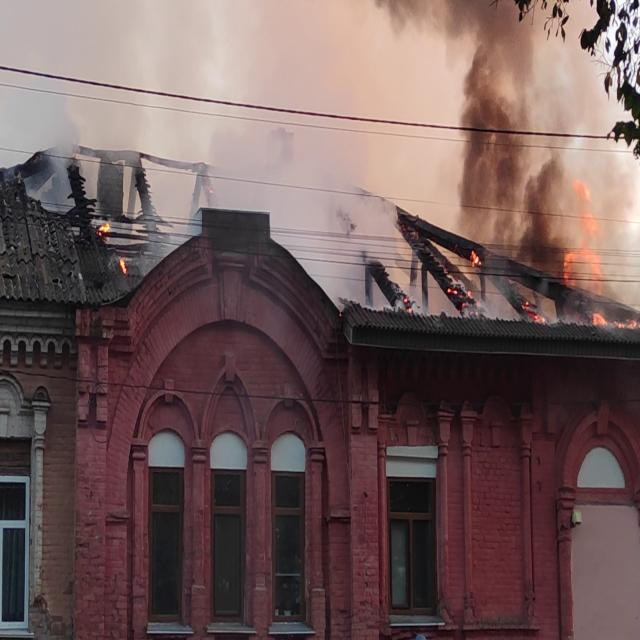fire: (561, 178, 605, 334)
smoke: (467, 0, 517, 216), (526, 170, 562, 258)
